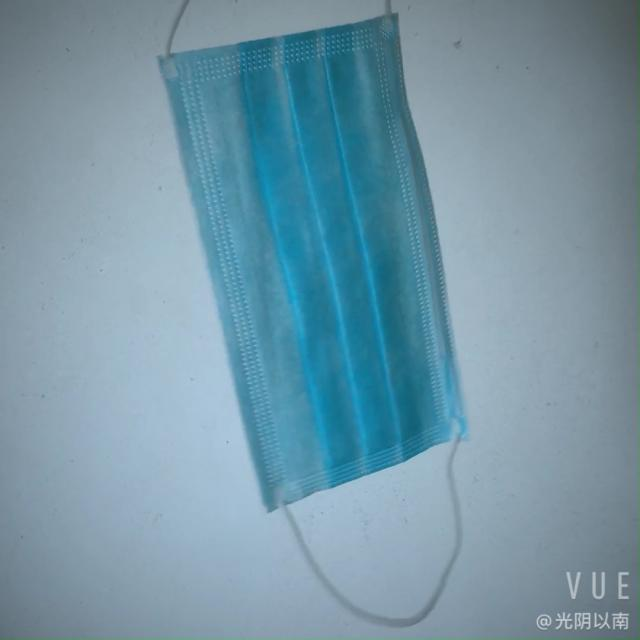non-organic waste: (147, 5, 457, 528)
